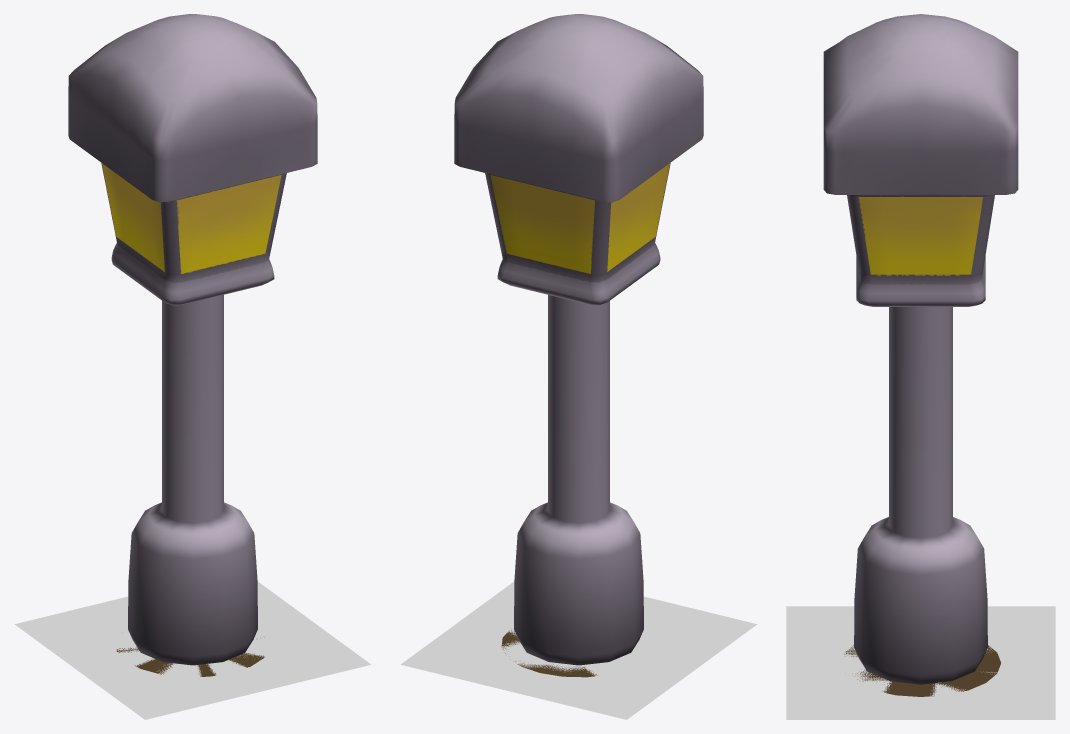
Rendered from Decor_Lamp.fbx.
3 renders of one model, left to right at view 1: azimuth 30°, elevation 25°; view 2: azimuth 150°, elevation 25°; view 3: azimuth 270°, elevation 25°, orthographic. The views are drawn at different scales.
Parts seen in each view (by area): view 1: Lamp.001, Lamp_Grid; view 2: Lamp.001, Lamp_Grid; view 3: Lamp.001, Lamp_Grid.
Part boxes in pixels (left/top/right/bottom): Lamp.001: left=68, top=14, right=317, bottom=676; Lamp_Grid: left=14, top=581, right=371, bottom=719; Lamp.001: left=454, top=14, right=703, bottom=677; Lamp_Grid: left=400, top=581, right=757, bottom=719; Lamp.001: left=823, top=14, right=1018, bottom=696; Lamp_Grid: left=786, top=606, right=1055, bottom=719.
Bounding box in the file's own units: 1 × 2.62 × 1.
